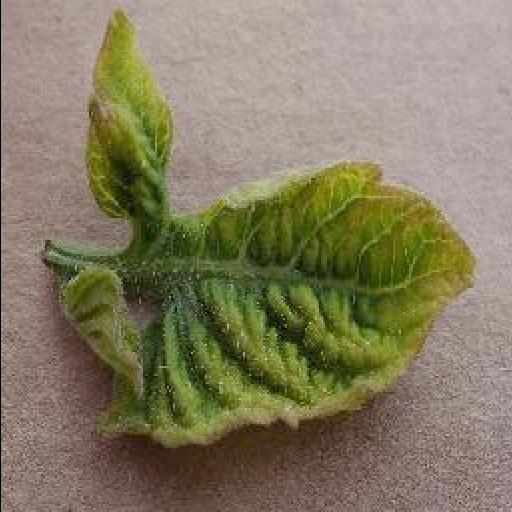disease_tomato: (54, 12, 476, 446)
